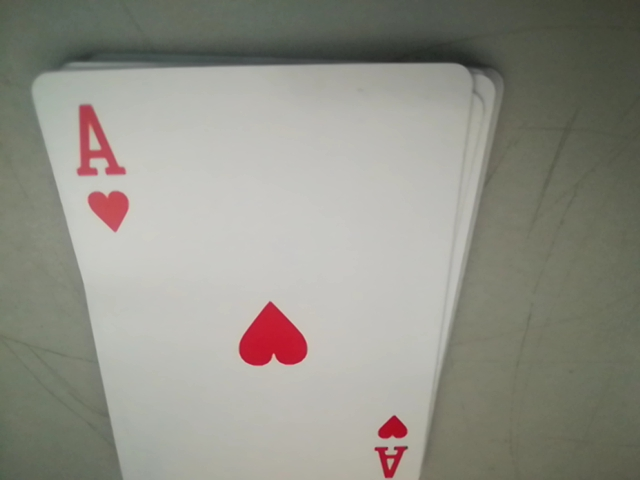hx a: (365, 413, 416, 473)
